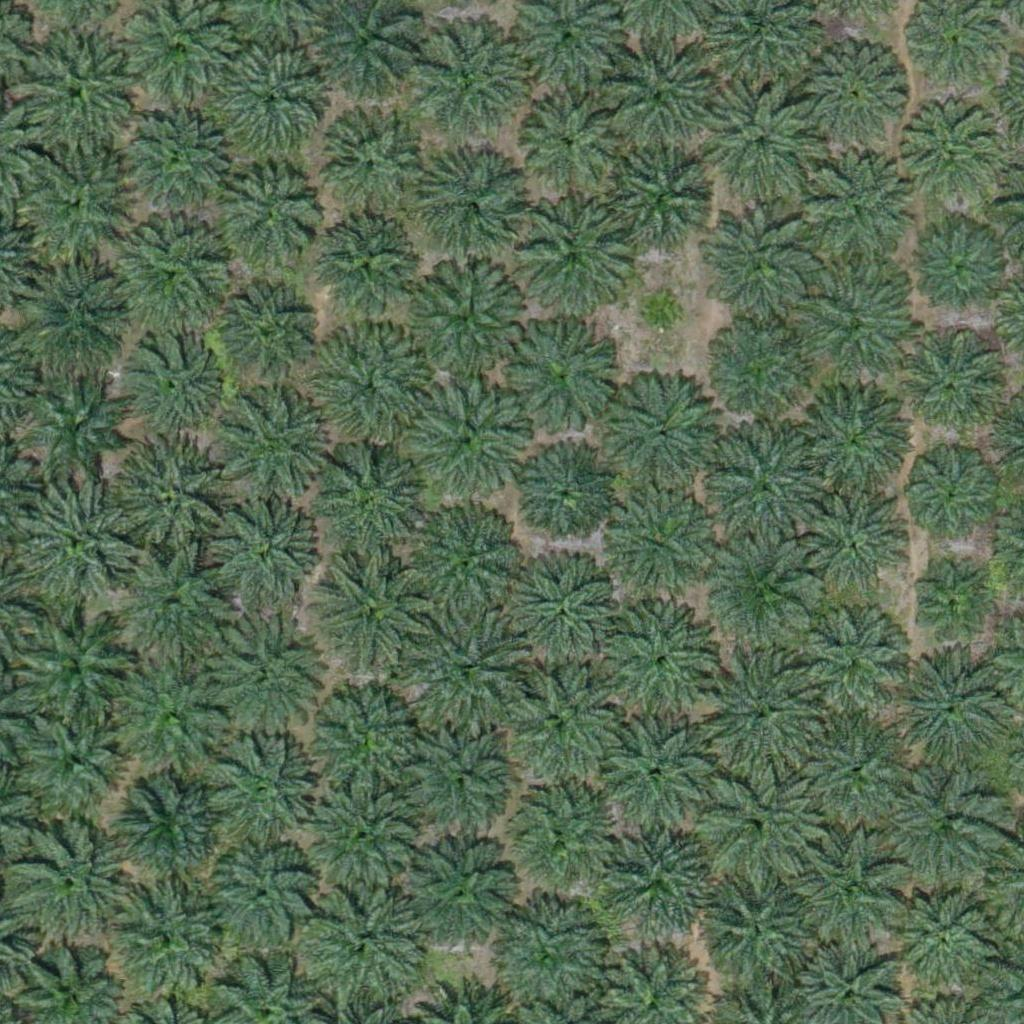Kelapa_Sawit: (406, 19, 531, 145), (704, 428, 829, 554), (597, 38, 722, 164), (403, 502, 528, 628), (310, 321, 435, 447), (309, 443, 434, 569), (309, 555, 434, 681), (116, 97, 241, 223), (104, 434, 229, 560), (112, 545, 237, 671), (8, 480, 133, 606), (12, 250, 137, 376), (8, 143, 133, 269), (15, 35, 140, 161), (10, 597, 135, 723), (14, 696, 139, 822), (10, 817, 135, 943), (102, 652, 227, 778), (196, 734, 321, 860), (199, 611, 324, 737), (306, 774, 431, 900), (305, 882, 430, 1008), (487, 664, 612, 790), (697, 649, 822, 775), (693, 764, 818, 890), (401, 374, 526, 499), (403, 257, 528, 382), (210, 37, 335, 162), (306, 680, 431, 805), (492, 775, 617, 900), (481, 893, 606, 1018), (114, 884, 227, 998), (798, 715, 911, 829), (795, 608, 908, 722), (706, 536, 819, 649), (600, 490, 713, 603), (603, 372, 716, 485), (605, 150, 718, 263), (211, 165, 324, 278), (117, 772, 230, 885), (401, 838, 514, 951), (402, 724, 515, 837), (415, 609, 528, 722), (791, 836, 904, 949), (794, 41, 906, 155), (798, 147, 910, 261), (799, 265, 911, 379), (707, 86, 819, 200), (705, 211, 817, 325), (890, 656, 1002, 770), (892, 770, 1004, 884), (796, 380, 908, 493), (507, 313, 619, 426), (517, 559, 629, 672), (413, 152, 525, 265), (315, 107, 427, 220), (203, 495, 315, 608), (219, 389, 331, 502), (116, 224, 228, 337), (207, 842, 319, 955), (605, 821, 717, 934), (597, 718, 709, 831), (602, 608, 714, 721), (702, 878, 814, 991), (898, 108, 998, 209), (805, 494, 905, 595), (710, 318, 810, 419), (517, 90, 617, 191), (524, 208, 624, 309), (517, 445, 617, 546), (315, 217, 415, 318), (219, 283, 319, 384), (124, 333, 224, 434), (26, 374, 126, 474), (891, 888, 991, 988), (908, 453, 996, 541), (910, 348, 998, 436), (918, 228, 1005, 316), (911, 568, 986, 644), (636, 289, 686, 339)
